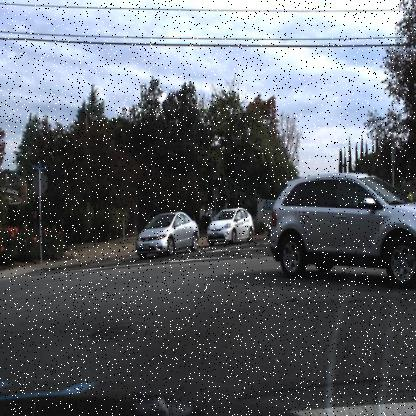car: (267, 174, 415, 286), (136, 210, 200, 256), (204, 205, 258, 245)
